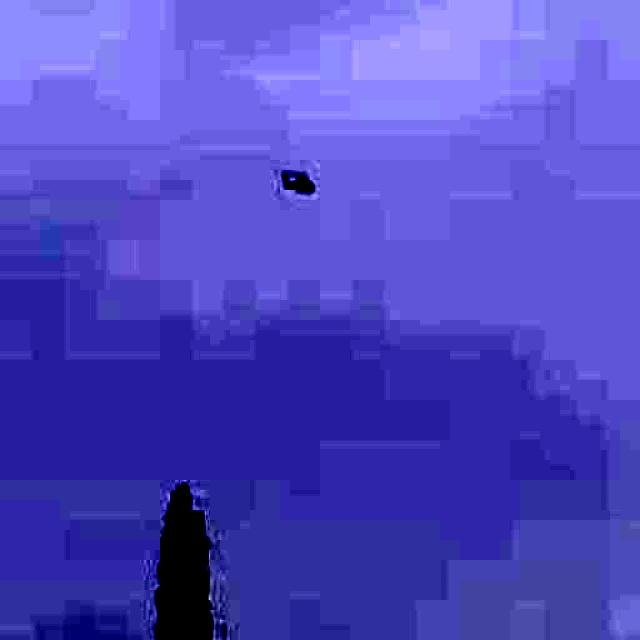drone: (271, 155, 331, 202)
